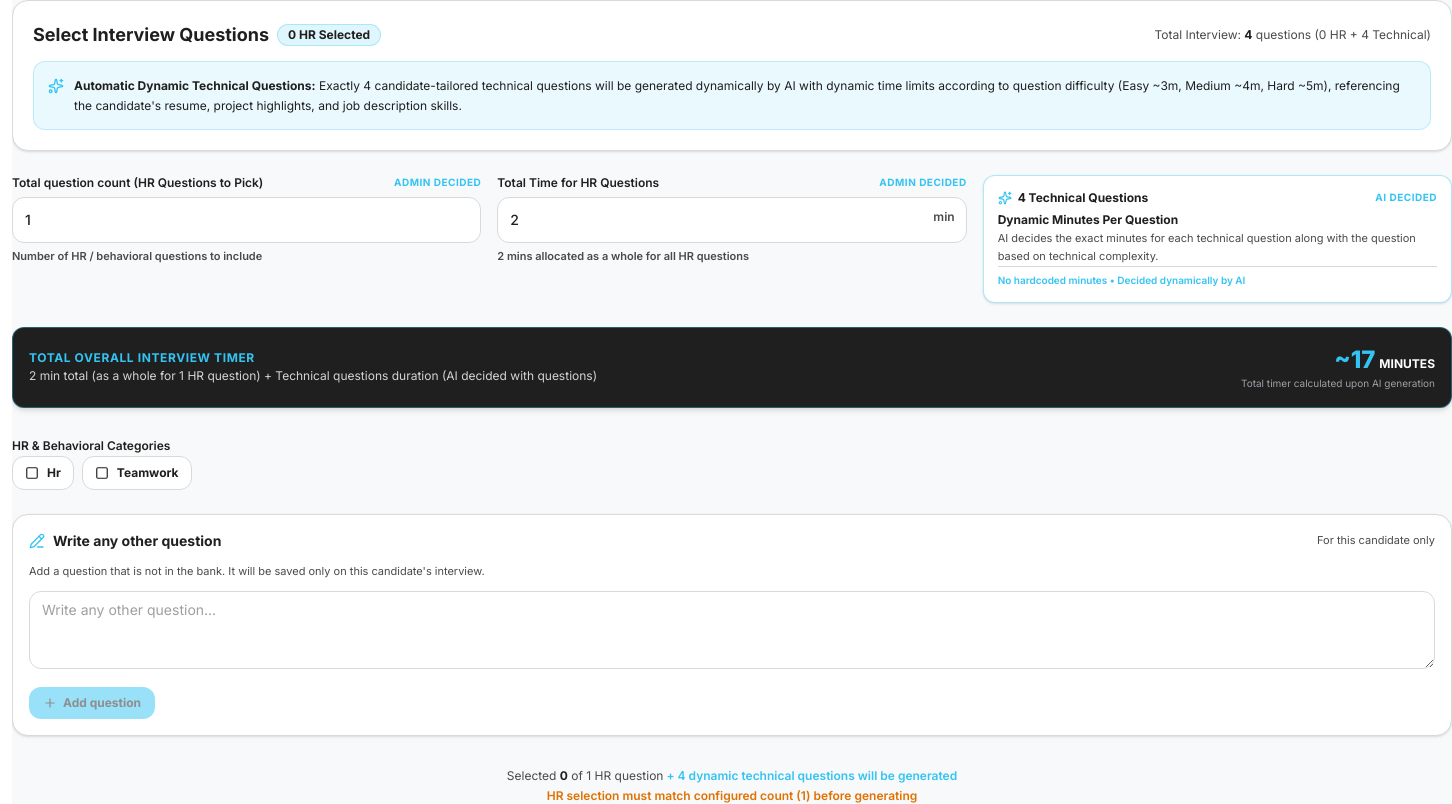
Test: QuestionBankSelector › loads categories from the bank and reveals questions when a category is selected
This screenshot has width=1452, height=804.
Expected: the text "hr" is shown, x1=47 y1=465 x2=61 y2=481
Expected: the text "Introduce yourself." is not shown
Click the button "hr": (43, 473) x1=12 y1=456 x2=74 y2=490
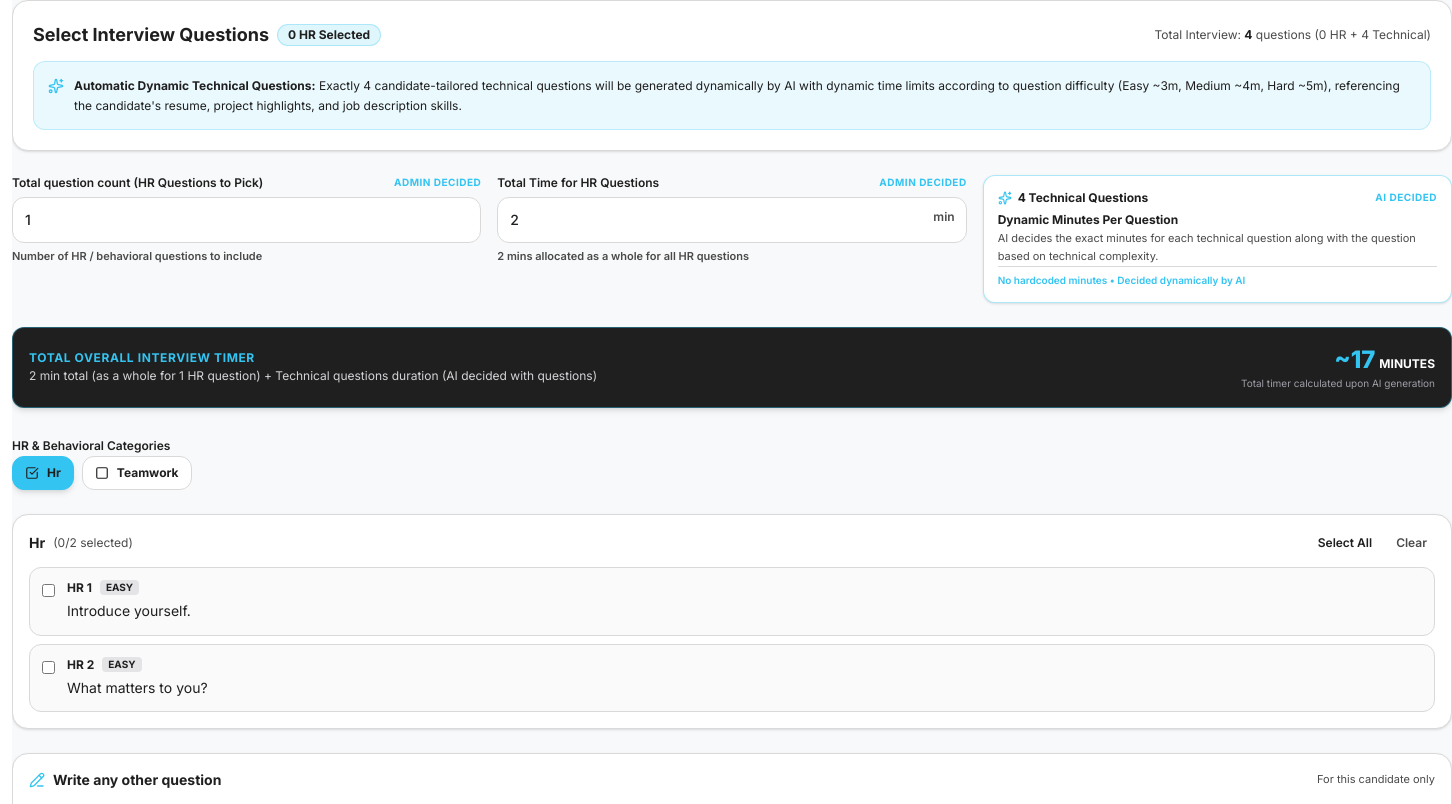
Now the text "Introduce yourself." is shown, box x1=67 y1=602 x2=191 y2=619
Now the text "What matters to you?" is shown, box x1=67 y1=678 x2=208 y2=696
